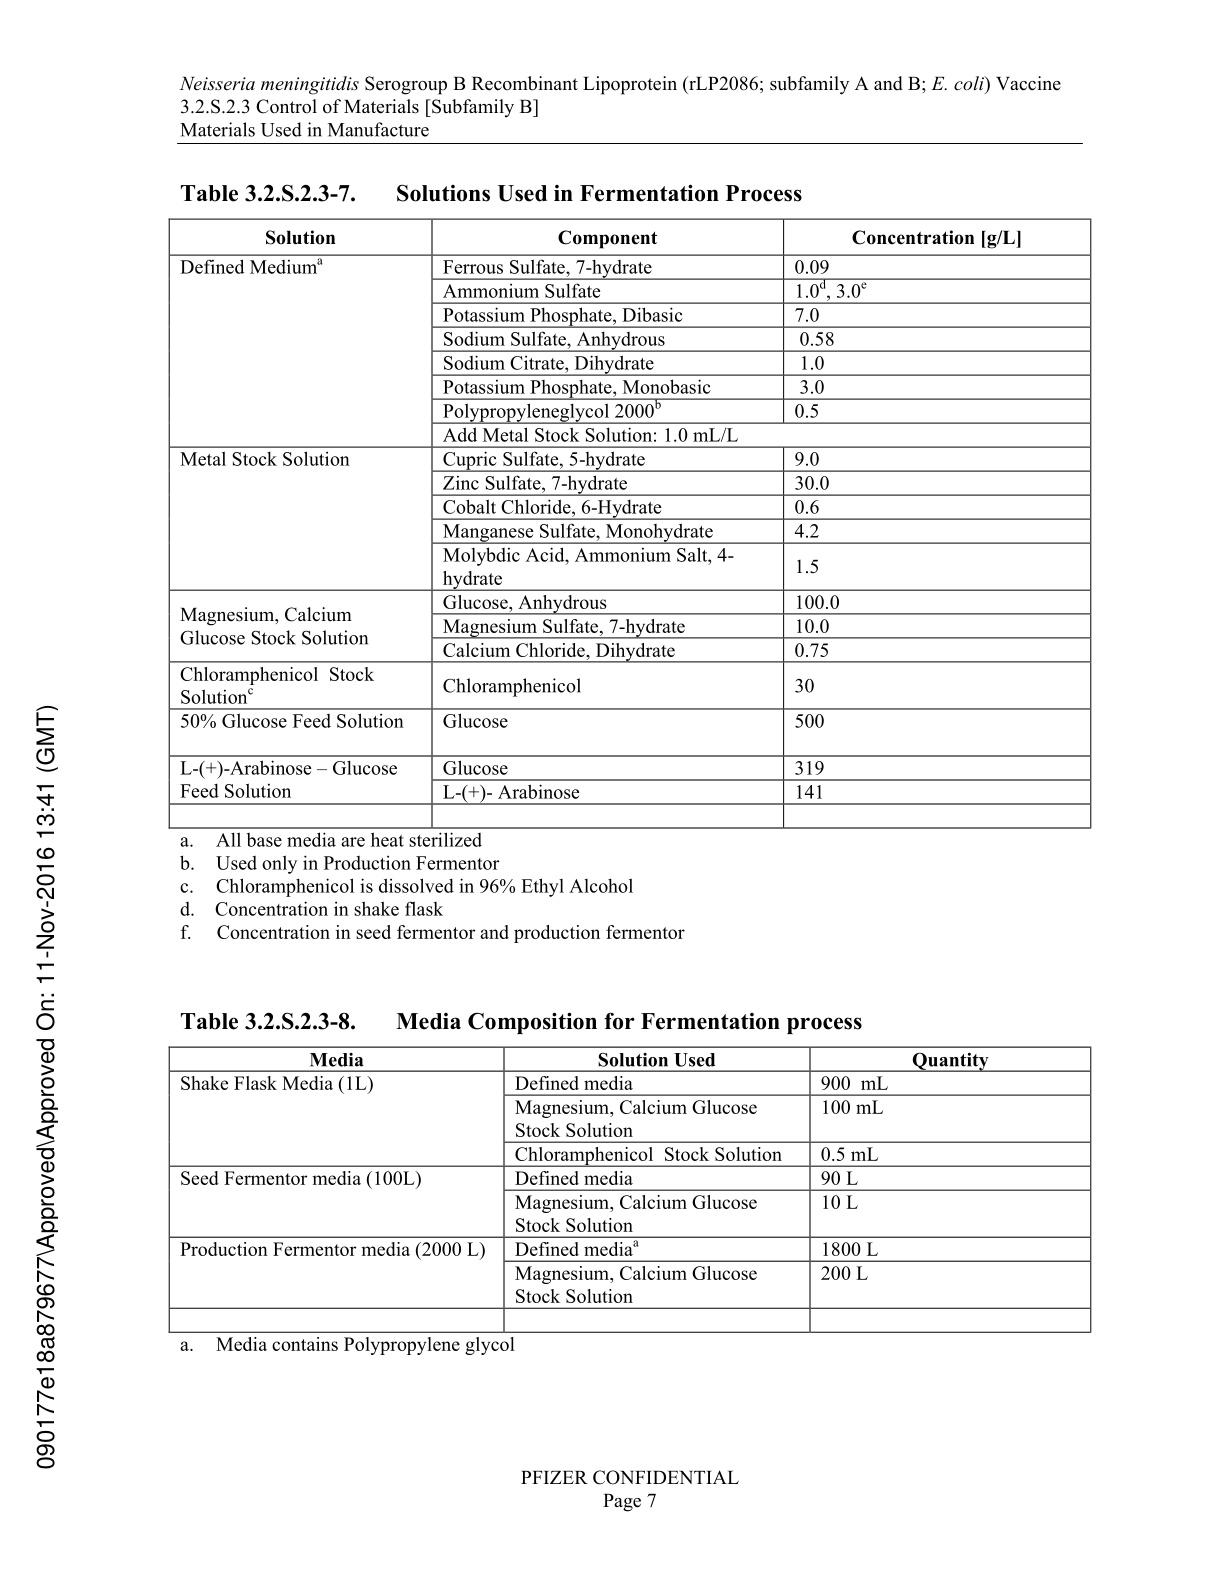merged_cells: (168, 217, 1092, 828), (168, 1044, 1092, 1333)
